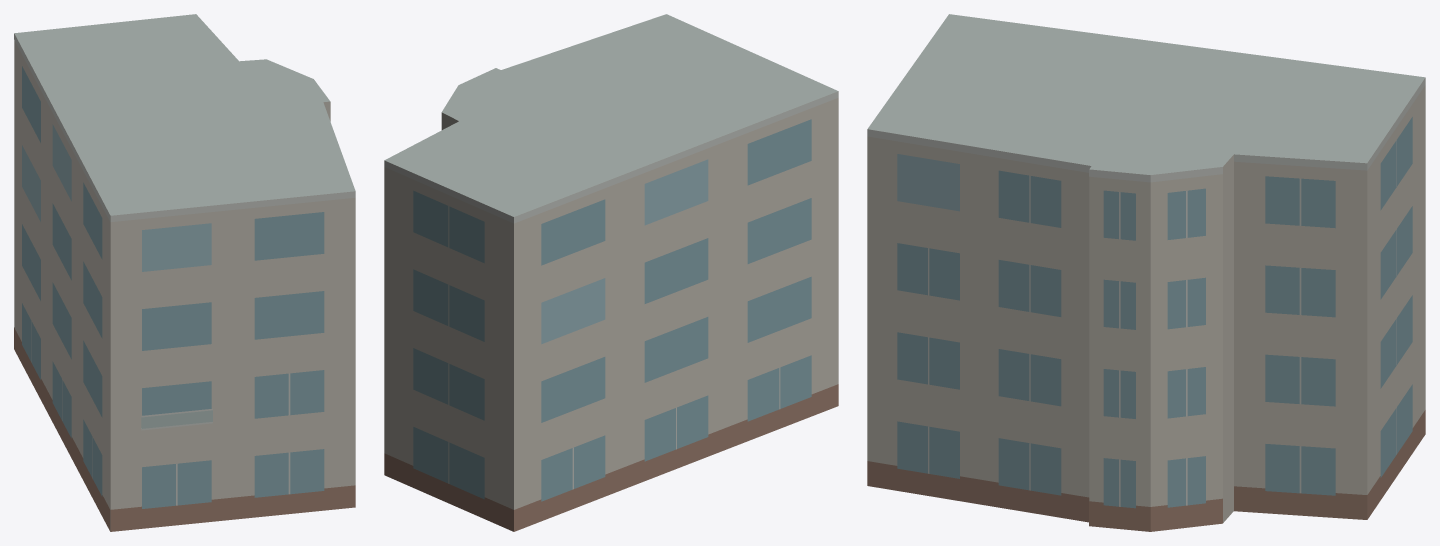
The model's file is survey-upis-32885257.glb.
3 renders of one model, left to right at view 1: azimuth 30°, elevation 25°; view 2: azimuth 150°, elevation 25°; view 3: azimuth 270°, elevation 25°, orthographic. The views are drawn at different scales.
Parts seen in each view (by area): view 1: survey-upis-32885257.tmp; view 2: survey-upis-32885257.tmp; view 3: survey-upis-32885257.tmp.
Part boxes in pixels (x1,y1,x2,y2): survey-upis-32885257.tmp: (14, 14, 355, 531); survey-upis-32885257.tmp: (384, 14, 838, 531); survey-upis-32885257.tmp: (867, 14, 1425, 531).
Size of the model in its own units: 11.54 by 11.9 by 16.89.
